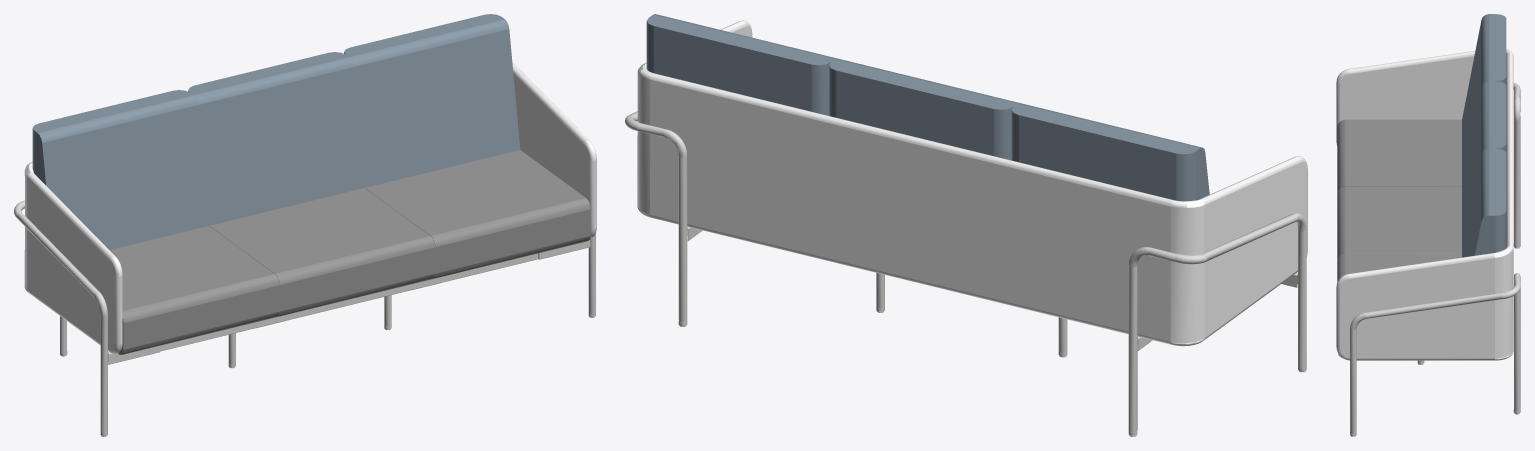
3 views of the same model, side by side, from view 1: azimuth 30°, elevation 25°; view 2: azimuth 150°, elevation 25°; view 3: azimuth 270°, elevation 25° (orthographic). The views are drawn at different scales.
Parts seen in each view (by area): view 1: 21 (×2), 19 (×2), 24, 23, 4, 85, 107, 102; view 2: 4, 23, 22, 20, 107, 19, 24, 21, 102; view 3: 4, 21 (×2), 23, 19 (×2), 102, 24, 107, 22.
Part boxes in pixels (left/top/right/bottom): 21 (×2): left=109, top=52, right=364, bottom=354; 19 (×2): left=32, top=90, right=590, bottom=278; 24: left=344, top=14, right=520, bottom=187; 23: left=209, top=188, right=434, bottom=316; 4: left=24, top=62, right=596, bottom=354; 85: left=160, top=253, right=538, bottom=351; 107: left=14, top=200, right=107, bottom=432; 102: left=588, top=233, right=595, bottom=313; 4: left=637, top=20, right=1307, bottom=346; 23: left=1011, top=110, right=1209, bottom=201; 22: left=646, top=21, right=830, bottom=115; 20: left=829, top=66, right=1012, bottom=160; 107: left=1128, top=213, right=1306, bottom=432; 19: left=1012, top=103, right=1209, bottom=193; 24: left=647, top=14, right=837, bottom=65; 21: left=829, top=58, right=1019, bottom=109; 102: left=625, top=111, right=687, bottom=322; 4: left=1336, top=49, right=1513, bottom=360; 21 (×2): left=1337, top=81, right=1506, bottom=253; 23: left=1337, top=186, right=1461, bottom=260; 19 (×2): left=1337, top=14, right=1506, bottom=357; 102: left=1350, top=273, right=1520, bottom=433; 24: left=1462, top=148, right=1506, bottom=257; 107: left=1513, top=82, right=1520, bottom=245; 22: left=1475, top=212, right=1506, bottom=255.
Bounding box in the file's own units: 1.91 × 0.8975 × 0.6945.
